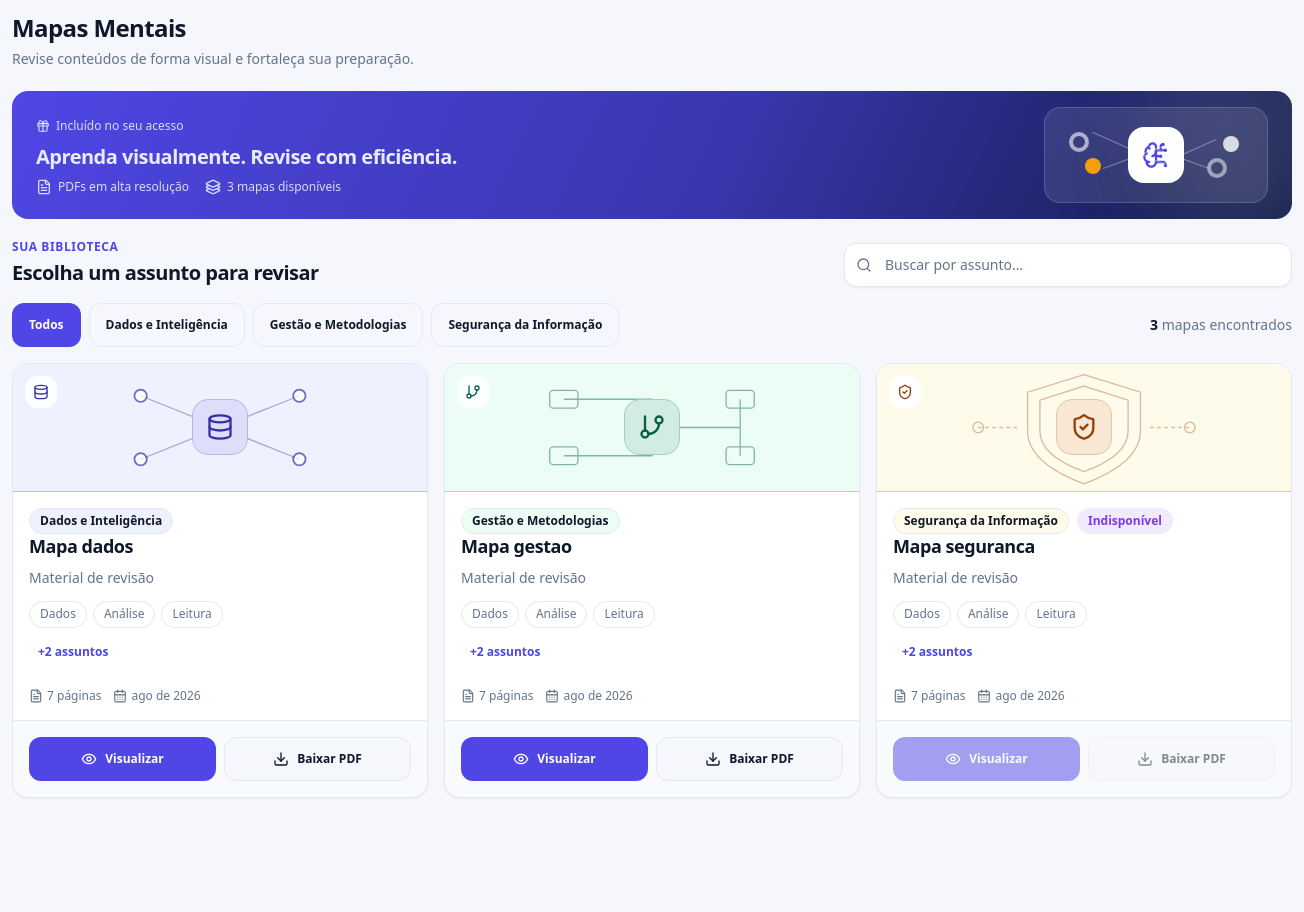
it: mantém todos os assuntos acessíveis e recolhe os extras
Expected: the text "Estatística" is not shown
Click the button "+2 assuntos" below "Mapa dados". click: (73, 652)
box: [29,632,117,672]
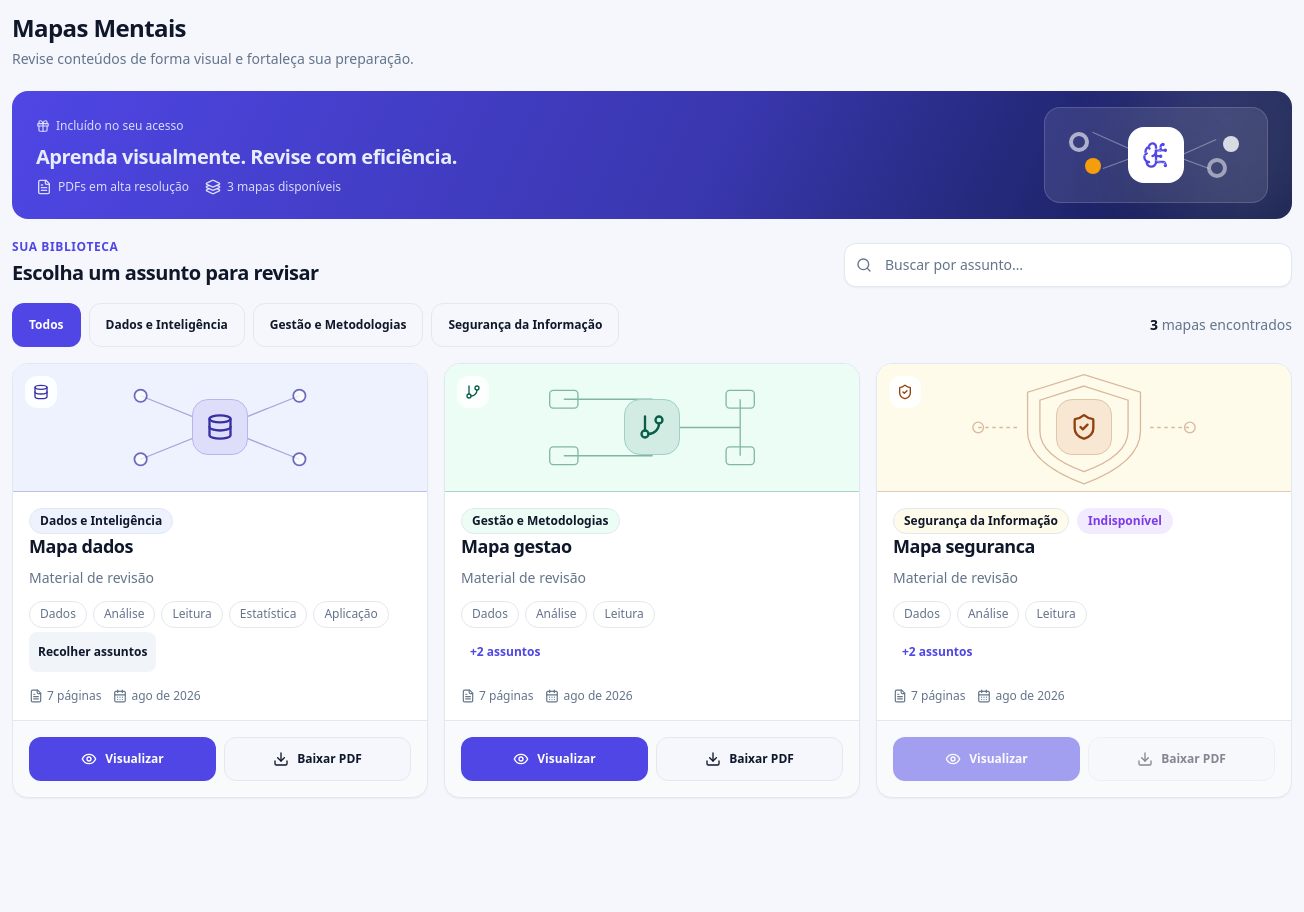
Now the text "Estatística" is shown, box [229,601,307,628]
Click the button "Recolher assuntos". click: (93, 652)
box: [29,632,156,672]
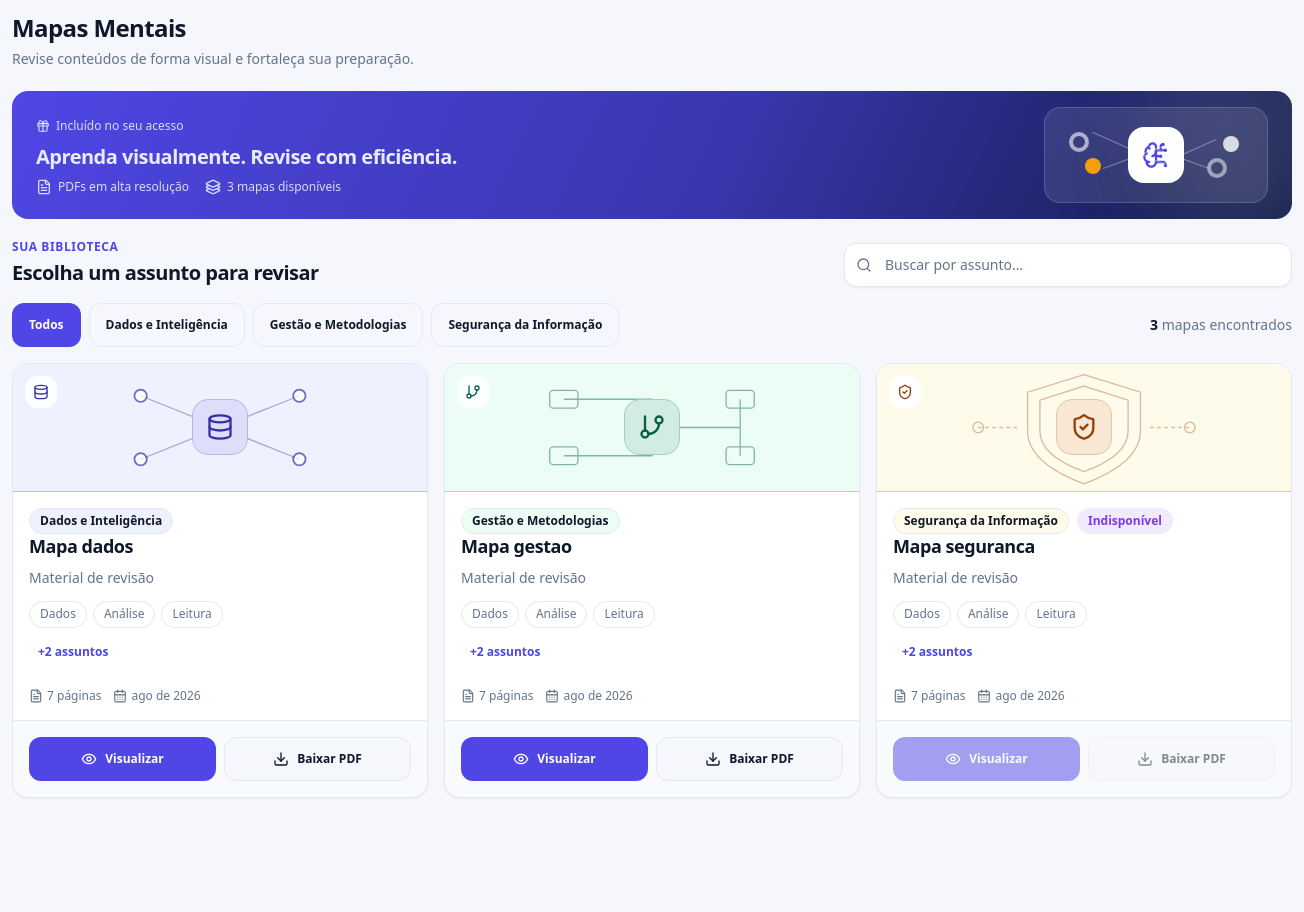
Now the text "Estatística" is gone
